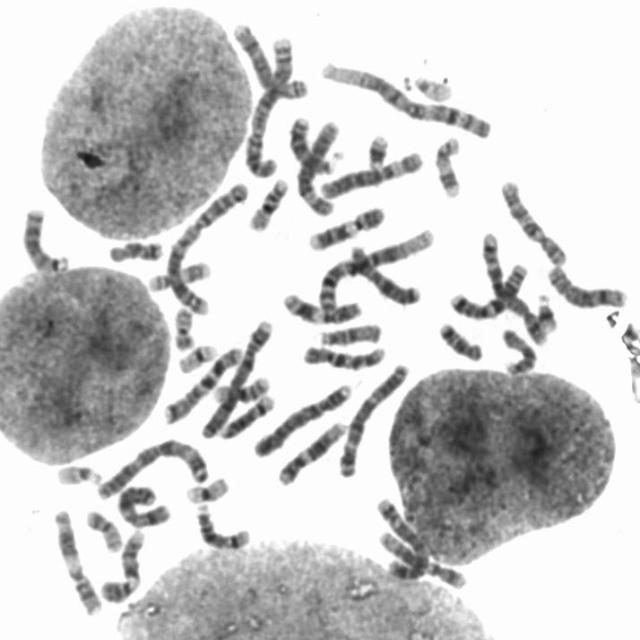A1: (314, 53, 496, 141), (311, 220, 437, 313)
A2: (161, 174, 252, 318), (238, 28, 297, 180)
A3: (332, 356, 412, 479), (90, 430, 212, 502)
B4: (194, 311, 275, 440), (247, 376, 355, 459)
B5: (476, 225, 552, 346), (370, 490, 432, 582)
C10: (494, 171, 570, 267), (297, 336, 388, 371)
C11: (46, 501, 104, 617), (276, 285, 366, 327)
C12: (373, 524, 470, 590), (272, 412, 350, 488)
C6: (314, 143, 426, 200), (290, 112, 344, 218)
C7: (157, 338, 246, 426), (443, 254, 530, 322)
C8: (227, 15, 311, 101), (541, 258, 630, 310)
C9: (302, 198, 388, 252), (95, 522, 148, 603)
D13: (15, 199, 71, 275), (284, 109, 339, 174)
D14: (212, 387, 277, 441), (190, 498, 253, 552)
D15: (496, 321, 540, 377), (313, 316, 384, 348)
E16: (243, 170, 290, 233), (206, 368, 274, 404)
E17: (144, 253, 214, 293), (428, 129, 464, 199)
E18: (432, 314, 485, 364), (102, 232, 166, 264)
F19: (172, 336, 220, 375), (180, 470, 232, 506)
F20: (80, 502, 124, 553), (167, 299, 197, 351)
G21: (360, 125, 393, 170), (531, 286, 559, 334)
G22: (406, 66, 455, 103), (49, 457, 105, 488)
X: (345, 238, 424, 306), (111, 477, 173, 529)
